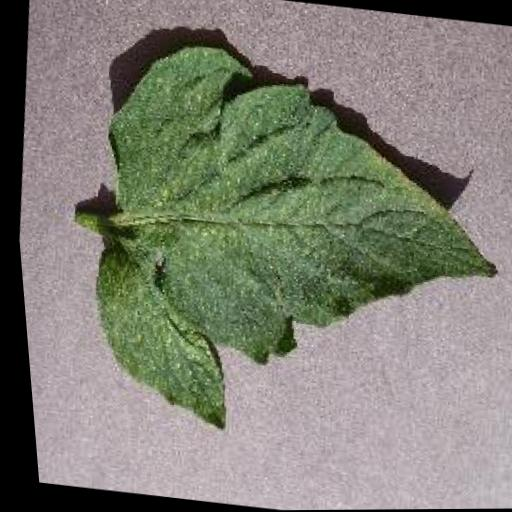Spider Mites: (58, 33, 512, 462)
